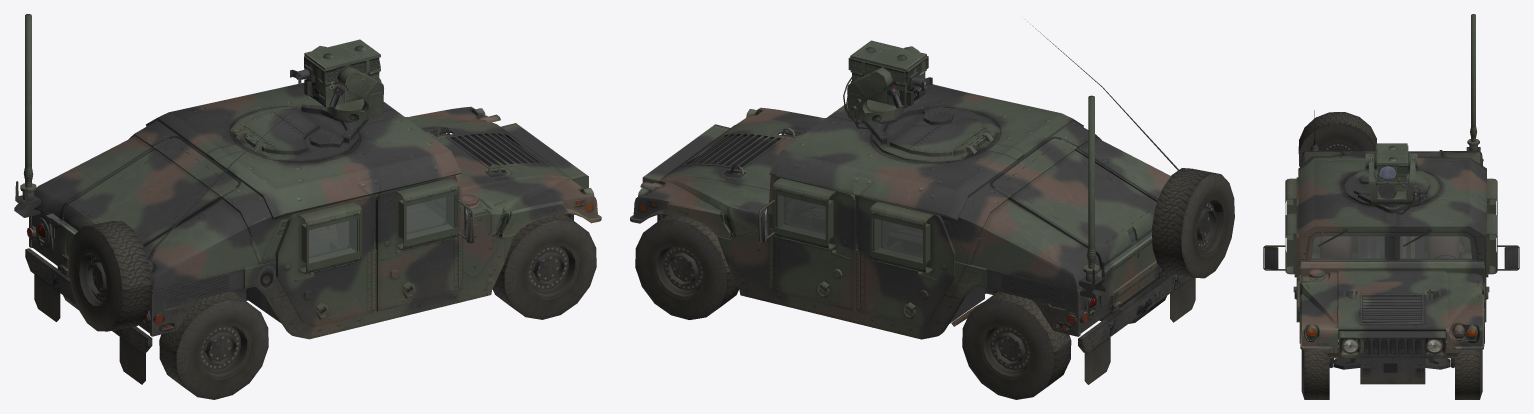
Rendered from humvee.glb.
3 renders of one model, left to right at view 1: azimuth 30°, elevation 25°; view 2: azimuth 150°, elevation 25°; view 3: azimuth 270°, elevation 25°, orthographic. The views are drawn at different scales.
Parts seen in each view (by area): view 1: hull, hull2, hatch7, hatch2, hatch4, tire3, spare tire, tire, lras, mount, hatch5, antenna (+12 smaller); view 2: hull, hull2, hatch7, hatch3, hatch, tire4, spare tire, tire2, lras, mount, hatch5, hullb (+12 smaller); view 3: hull, hull2, hullb, window, lras, spare tire, interior, hatch2, tire, tire2, hatch, mount (+8 smaller).
Boxes of the visible parts, left/top/right/bottom form: hull: left=25, top=82, right=514, bottom=353; hull2: left=405, top=106, right=601, bottom=238; hatch7: left=58, top=135, right=241, bottom=246; hatch2: left=375, top=175, right=474, bottom=311; hatch4: left=275, top=196, right=376, bottom=327; tire3: left=159, top=291, right=268, bottom=399; spare tire: left=68, top=221, right=151, bottom=331; tire: left=492, top=214, right=596, bottom=319; lras: left=290, top=39, right=383, bottom=133; mount: left=230, top=104, right=368, bottom=161; hatch5: left=242, top=107, right=319, bottom=154; antenna: left=14, top=14, right=40, bottom=217; hull: left=717, top=84, right=1191, bottom=353; hull2: left=630, top=107, right=825, bottom=239; hatch7: left=989, top=136, right=1158, bottom=270; hatch3: left=855, top=196, right=955, bottom=326; hatch: left=758, top=176, right=855, bottom=311; tire4: left=962, top=291, right=1071, bottom=399; spare tire: left=1152, top=168, right=1234, bottom=278; tire2: left=635, top=214, right=738, bottom=319; lras: left=843, top=40, right=932, bottom=129; mount: left=861, top=105, right=1000, bottom=162; hatch5: left=889, top=117, right=988, bottom=156; hullb: left=642, top=124, right=984, bottom=323; hull: left=1297, top=151, right=1486, bottom=343; hull2: left=1300, top=270, right=1484, bottom=350; hullb: left=1301, top=236, right=1484, bottom=384; window: left=1312, top=236, right=1471, bottom=259; lras: left=1365, top=143, right=1420, bottom=214; spare tire: left=1298, top=112, right=1376, bottom=166; interior: left=1300, top=236, right=1471, bottom=265; hatch2: left=1263, top=208, right=1300, bottom=322; tire: left=1301, top=349, right=1329, bottom=399; tire2: left=1455, top=350, right=1482, bottom=399; hatch: left=1484, top=213, right=1519, bottom=322; mount: left=1344, top=170, right=1440, bottom=213.
Bounding box in the file's own units: 5.33 × 3.24 × 3.21.
16 materials, 16 textured.
